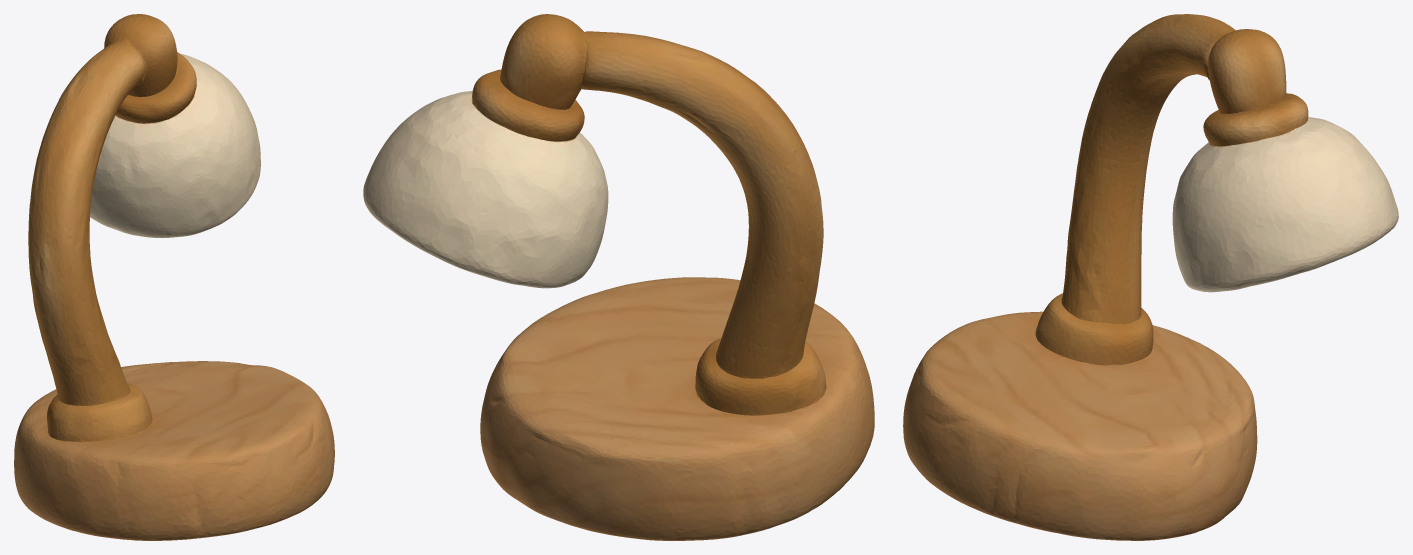
The model's file is item_lamp.glb.
3 views of the same model, side by side, from view 1: azimuth 30°, elevation 25°; view 2: azimuth 150°, elevation 25°; view 3: azimuth 270°, elevation 25° (orthographic). The views are drawn at different scales.
Parts seen in each view (by area): view 1: geometry_0; view 2: geometry_0; view 3: geometry_0.
Part boxes in pixels (x1,y1,x2,y2): geometry_0: [14, 14, 334, 540]; geometry_0: [363, 14, 874, 540]; geometry_0: [903, 14, 1398, 540].
Bounding box in the file's own units: 0.6395 × 0.8538 × 0.8182.
1 material, 1 textured.
